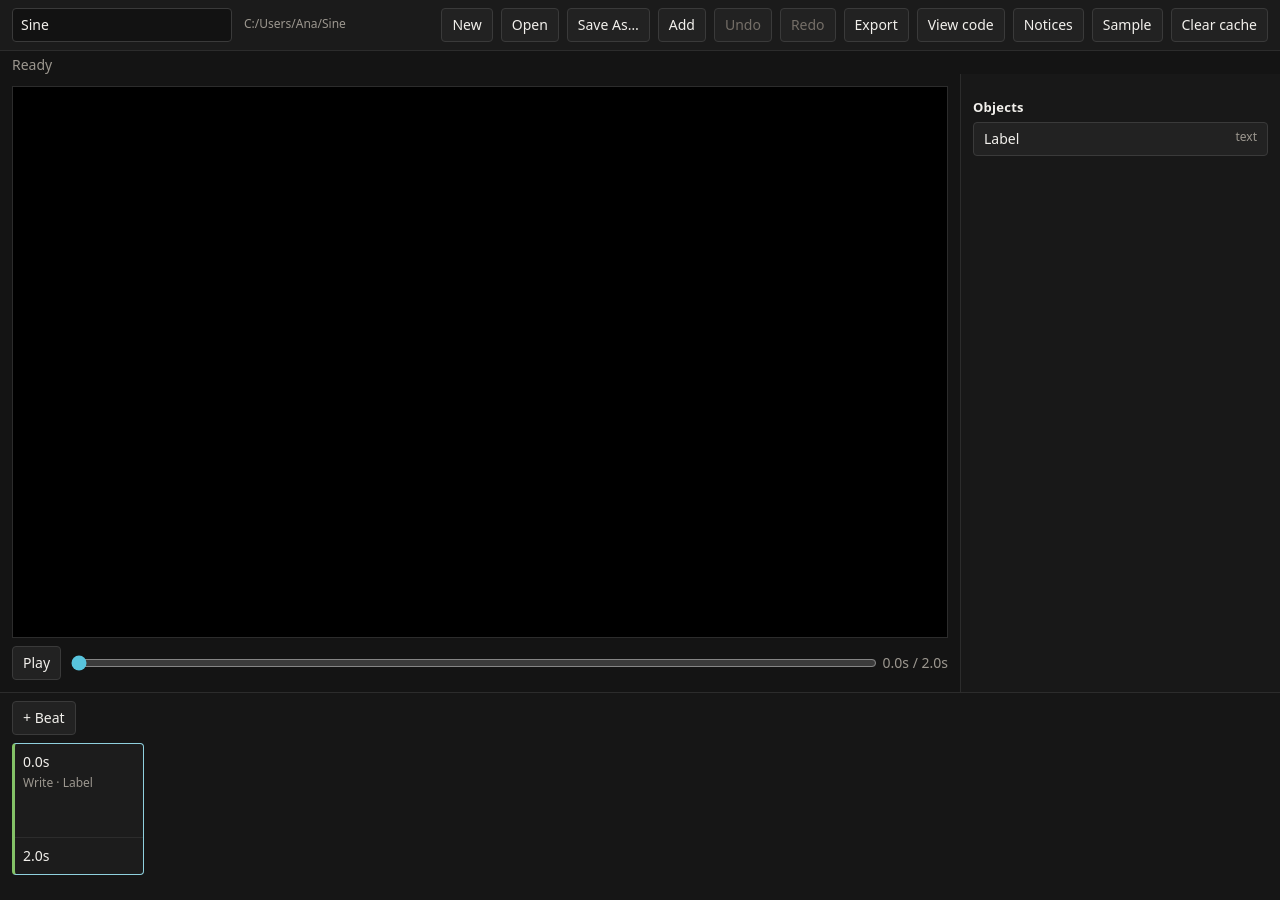
Test: App › starts a preview with the banner's Render again after a preview used an incomplete clip
The image size is (1280, 900).
Expected: the text with test id "status" reads "Ready", [12, 55, 52, 74]
Click the button with test id "clear-cache-button" at (1219, 25), box [1170, 8, 1268, 42]
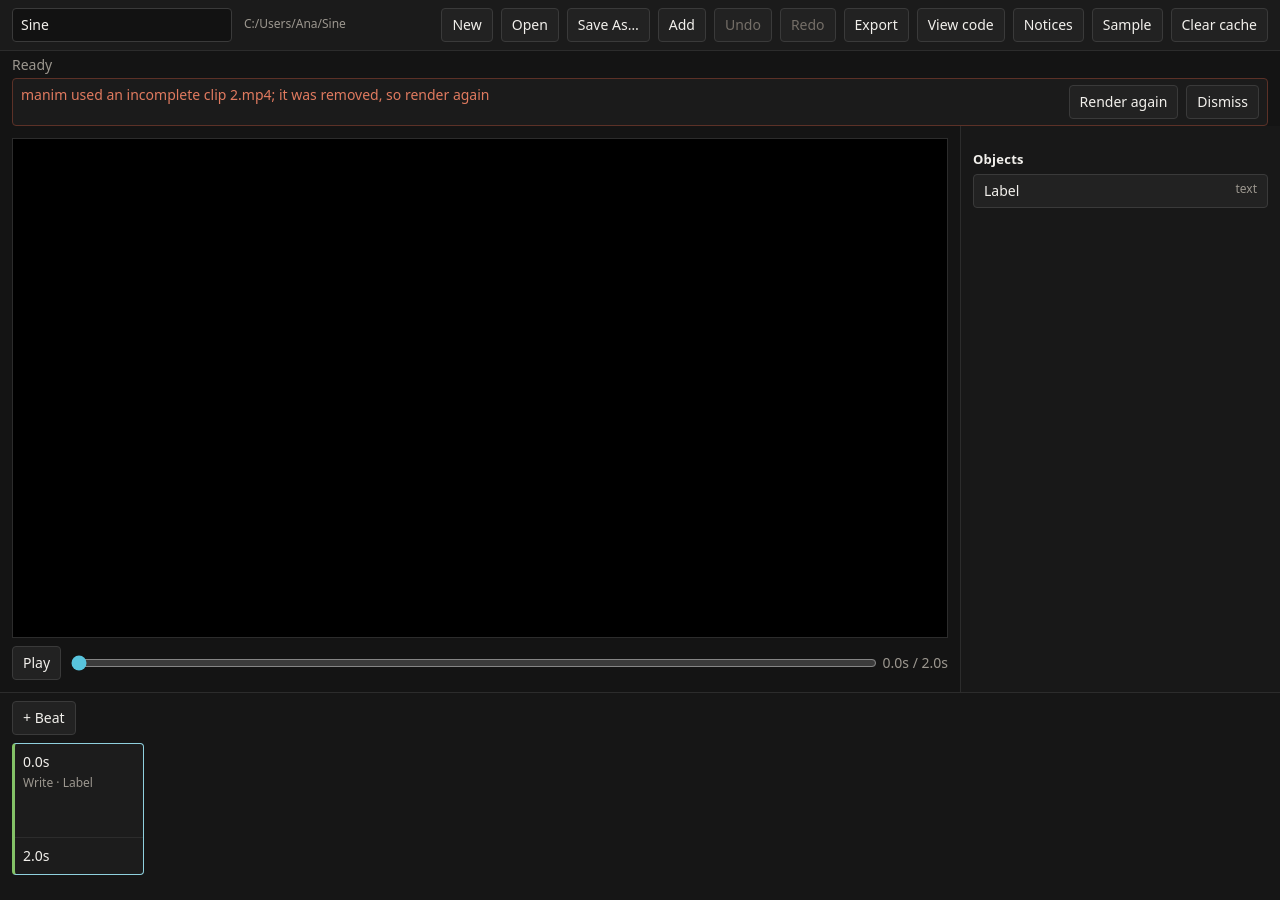
Expected: the text with test id "error" reads "manim used an incomplete clip 2.mp4; it was removed, so render again", [21, 85, 490, 104]
Click the button "Render again" at (1124, 102), box [1069, 85, 1178, 119]
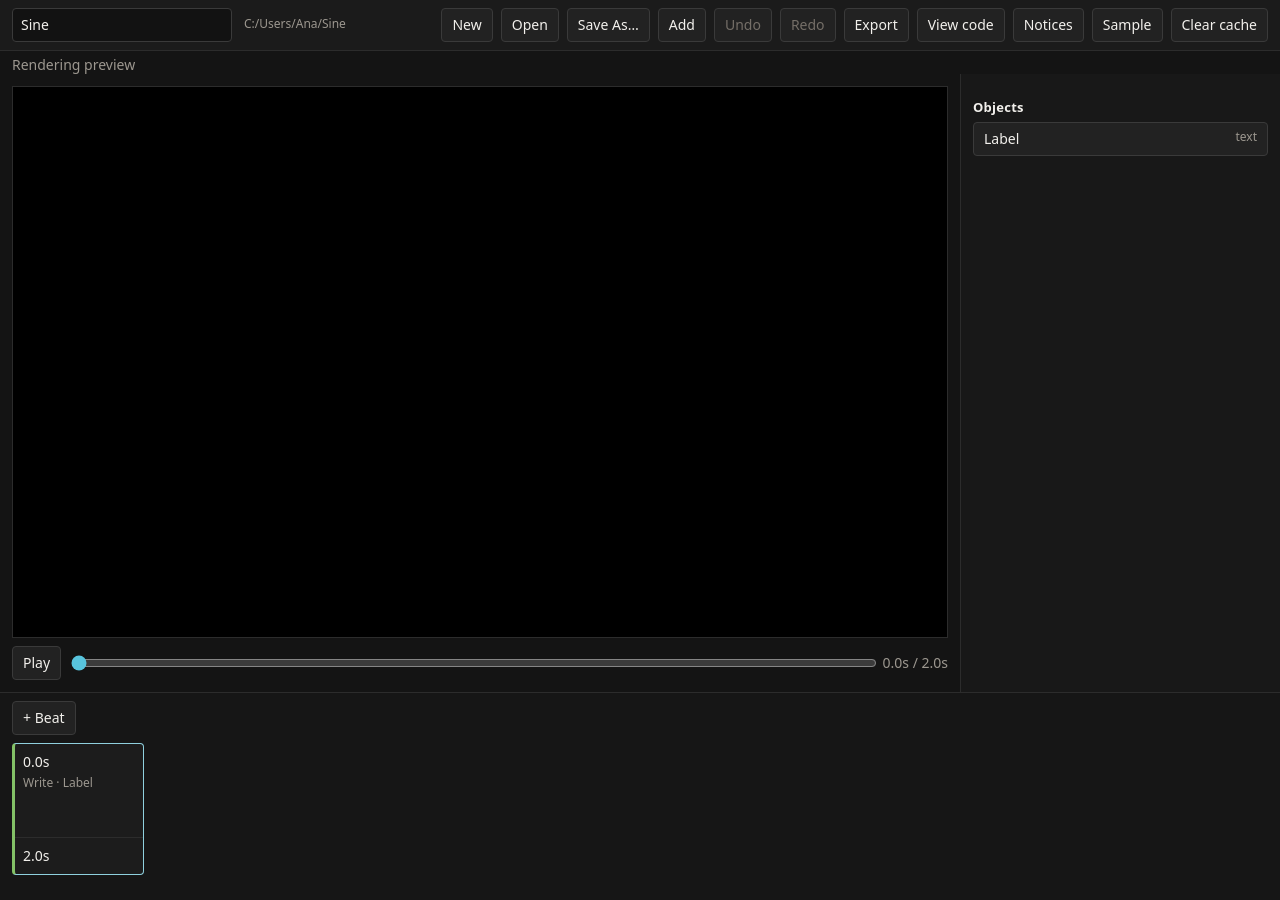
Expected: the message with test id "error-banner" is gone
Expected: the text with test id "status" reads "Rendering preview", [12, 55, 135, 74]
